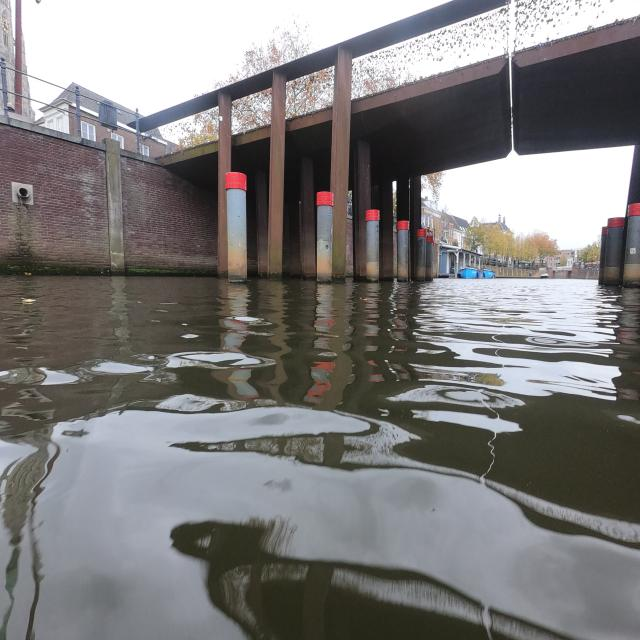sky: (23, 0, 447, 115), (439, 146, 633, 249)
wall: (0, 116, 111, 273), (114, 150, 217, 275)
water: (0, 276, 640, 640)
